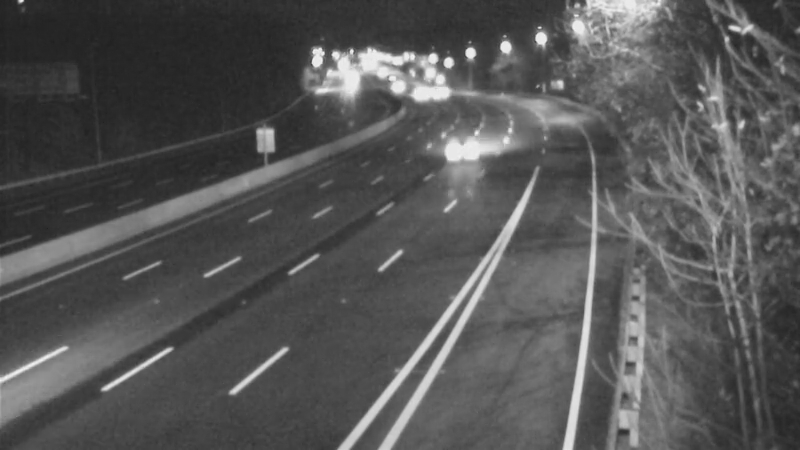vehicle: (413, 68, 463, 118), (372, 61, 422, 111), (396, 71, 446, 121), (436, 124, 486, 174)
